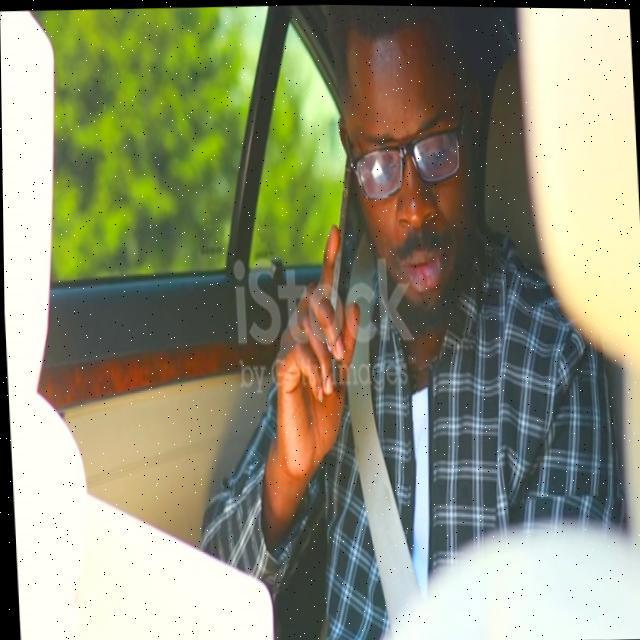PhoneCall: (315, 135, 374, 397)
